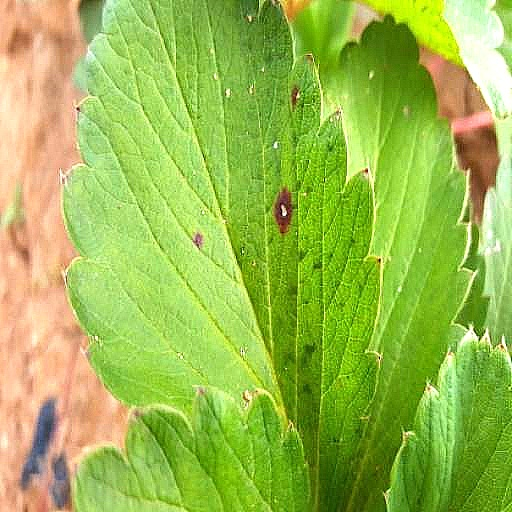Leaf Spot: (128, 0, 452, 511)
